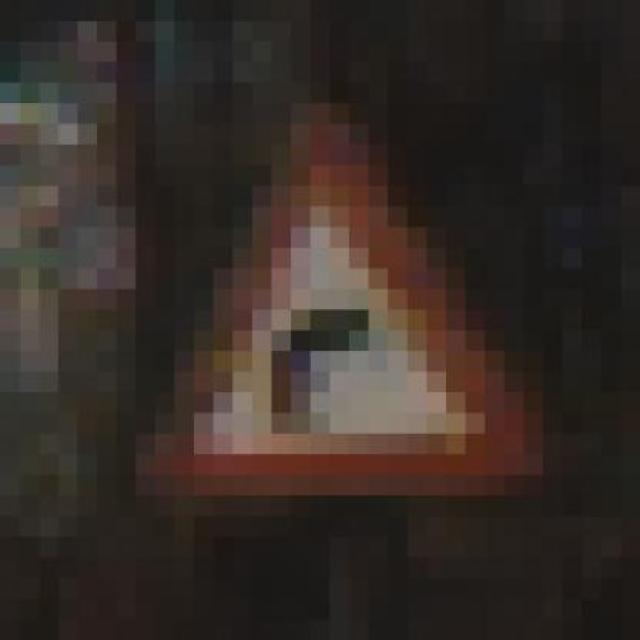Dangerous Rright Curve Ahead: (116, 123, 582, 537)
